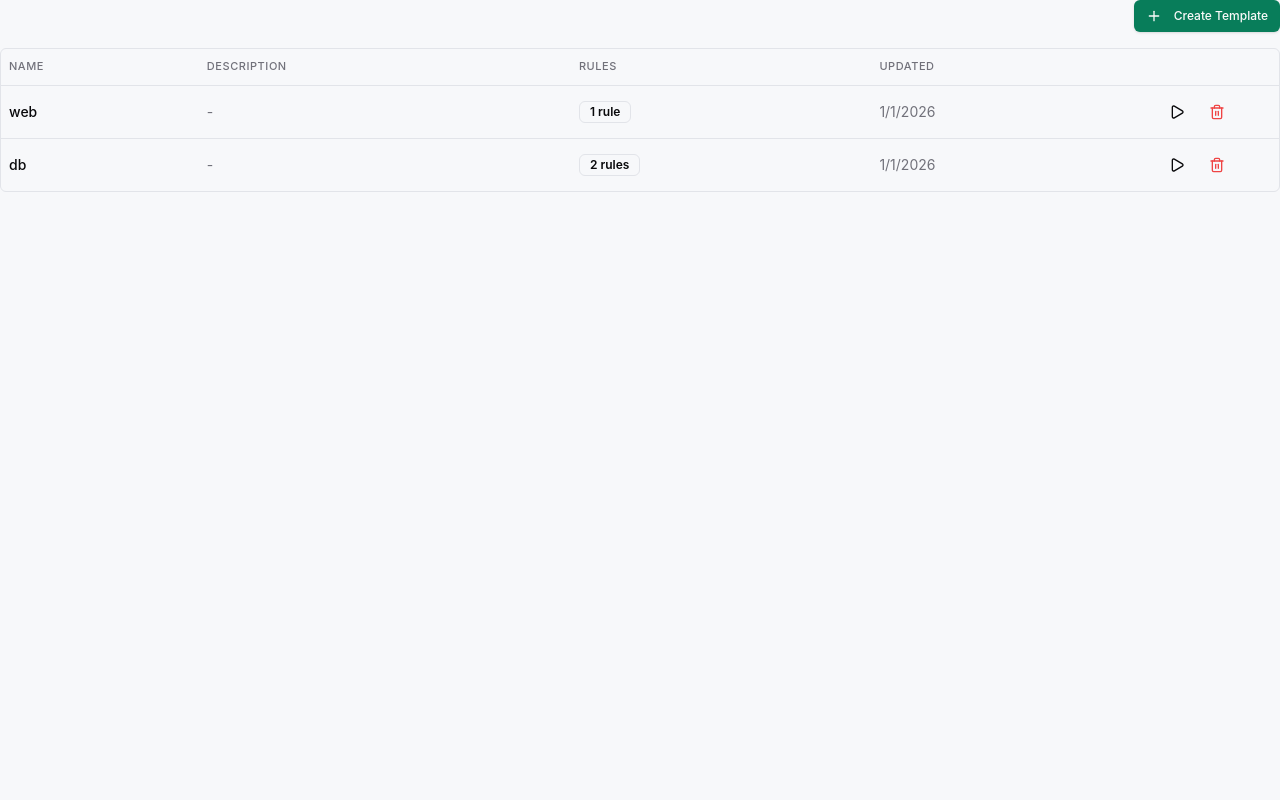
Test case: FirewallTemplatesTable — deleting a template › Cancel sends nothing
Click the button named "Delete template db": (1217, 164) [1199,146,1235,182]
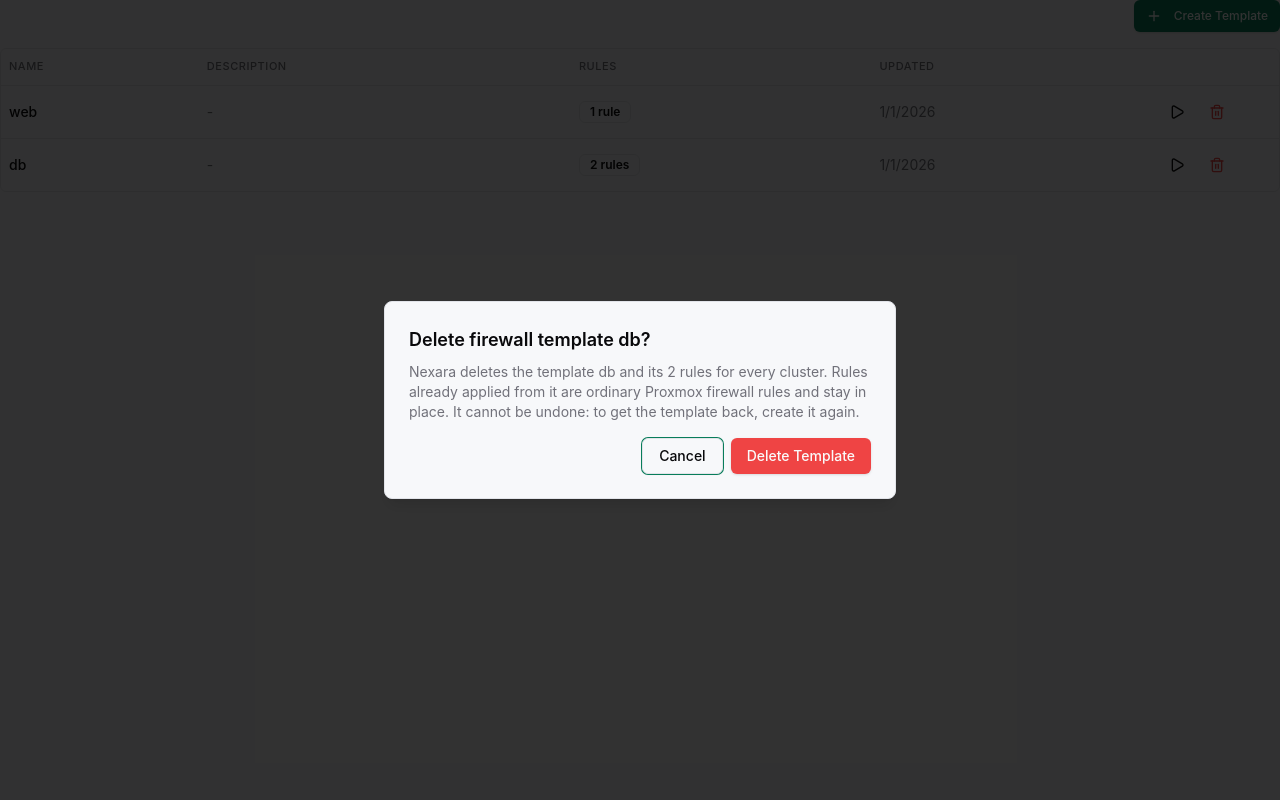
Click the button "Cancel": (682, 456) [642,438,723,474]
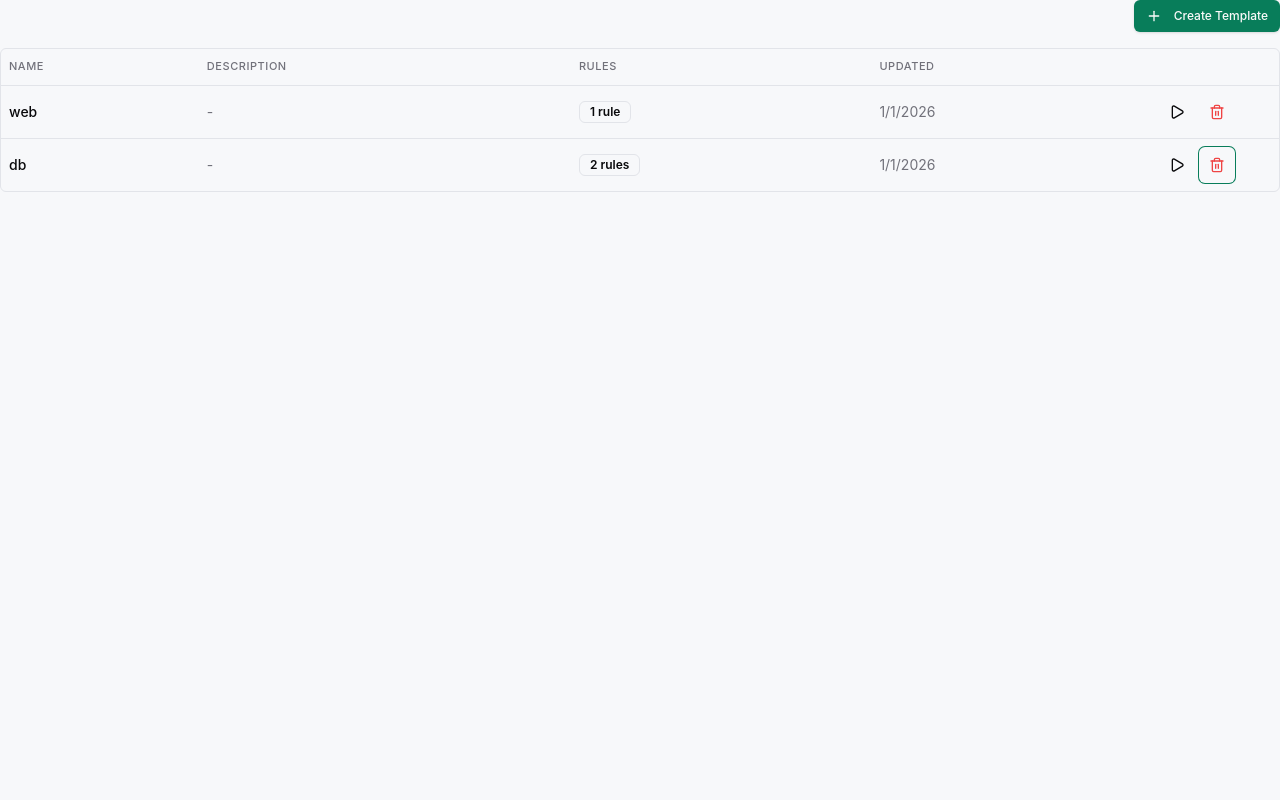
Expected: the dialog is gone
